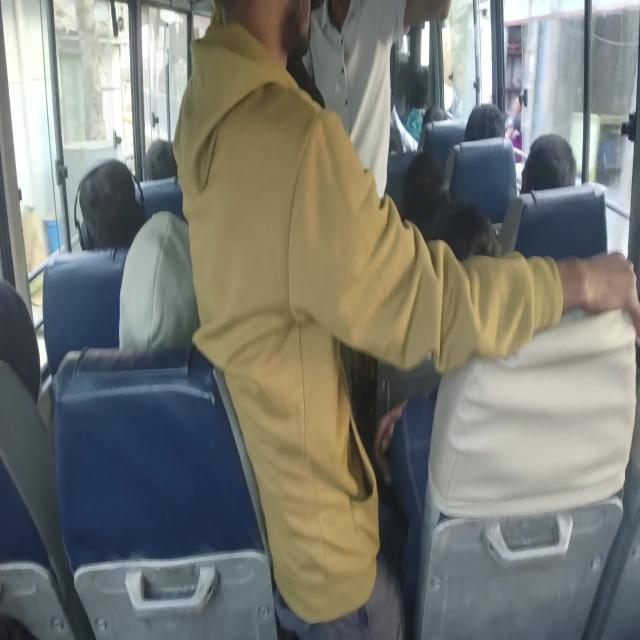person: (218, 0, 358, 261), (124, 219, 206, 348), (320, 4, 387, 102), (84, 167, 147, 260), (0, 279, 52, 390), (438, 200, 507, 282), (522, 127, 583, 195), (470, 98, 520, 160), (393, 160, 443, 214), (143, 135, 176, 207), (406, 59, 442, 101), (425, 94, 449, 134)
